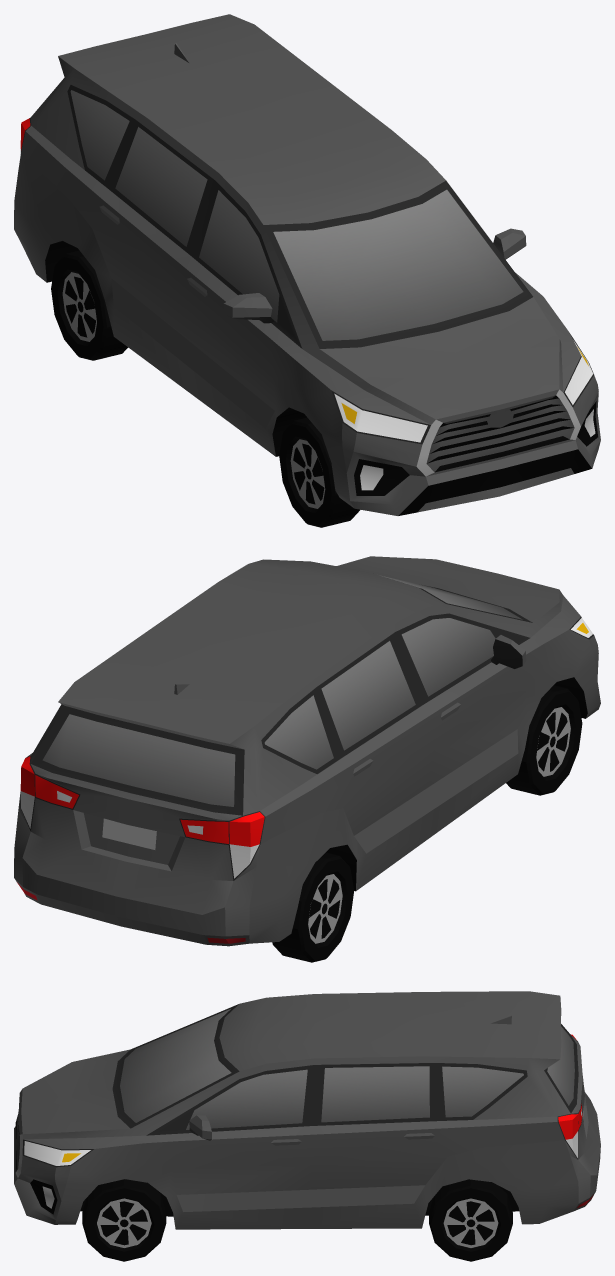
The model's file is mpv_2.glb.
3 renders of one model, top to bottom at view 1: azimuth 30°, elevation 25°; view 2: azimuth 150°, elevation 25°; view 3: azimuth 270°, elevation 25°, orthographic. The views are drawn at different scales.
Parts seen in each view (by area): view 1: Plane, Cylinder.011, Cylinder.010; view 2: Plane, Cylinder.010, Cylinder.011; view 3: Plane, Cylinder.009, Cylinder.008.
Part boxes in pixels (box(x1,y1,x2,y2)): Plane: box(14, 14, 600, 515); Cylinder.011: box(279, 417, 360, 527); Cylinder.010: box(51, 250, 127, 360); Plane: box(14, 556, 600, 946); Cylinder.010: box(272, 852, 354, 962); Cylinder.011: box(506, 685, 582, 795); Plane: box(14, 991, 600, 1229); Cylinder.009: box(82, 1179, 166, 1261); Cylinder.008: box(429, 1179, 512, 1261).
Size of the model in its own units: 2 by 1.69 by 4.47.
2 materials, 1 textured.
